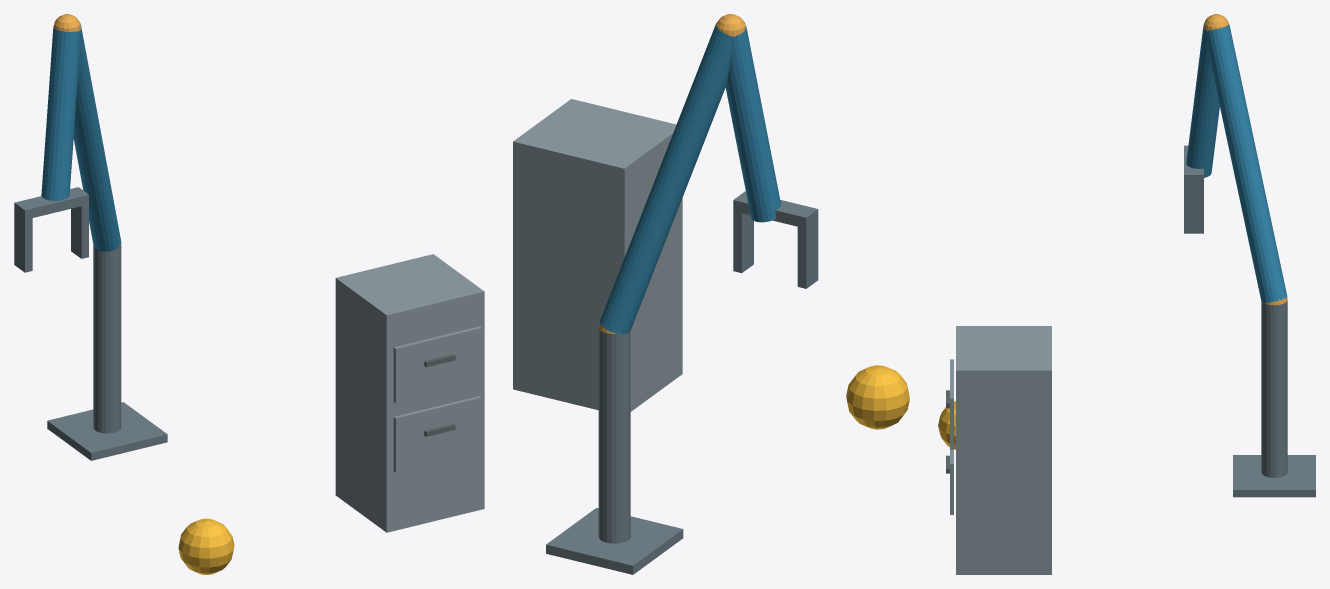
3 renders of one model, left to right at view 1: azimuth 30°, elevation 25°; view 2: azimuth 150°, elevation 25°; view 3: azimuth 270°, elevation 25°, orthographic. The views are drawn at different scales.
Visible parts, largest first — view 1: cabinet_1 body, fixed post, moving link 2, cabinet_1 drawer front, cabinet_1 drawer front.001, moving link 1, pedestal, ball ball_1, gripper bridge, gripper finger -1, gripper finger 1; view 2: cabinet_1 body, moving link 1, fixed post, moving link 2, pedestal, ball ball_1, gripper finger -1, gripper finger 1, gripper bridge, joint 2; view 3: cabinet_1 body, moving link 1, fixed post, pedestal, moving link 2, gripper finger 1.
Part boxes in pixels (bbox=[...]): cabinet_1 body: bbox=[335, 254, 484, 532]; fixed post: bbox=[93, 244, 121, 433]; moving link 2: bbox=[41, 27, 80, 200]; cabinet_1 drawer front: bbox=[393, 396, 481, 472]; cabinet_1 drawer front.001: bbox=[393, 326, 481, 402]; moving link 1: bbox=[73, 24, 121, 251]; pedestal: bbox=[47, 402, 167, 460]; ball ball_1: bbox=[178, 518, 234, 574]; gripper bridge: bbox=[14, 187, 88, 219]; gripper finger -1: bbox=[14, 212, 32, 272]; gripper finger 1: bbox=[71, 204, 88, 258]; cabinet_1 body: bbox=[513, 99, 682, 411]; moving link 1: bbox=[599, 24, 732, 334]; fixed post: bbox=[598, 327, 630, 543]; moving link 2: bbox=[725, 26, 780, 222]; pedestal: bbox=[546, 508, 683, 574]; ball ball_1: bbox=[846, 365, 909, 429]; gripper finger -1: bbox=[797, 220, 818, 288]; gripper finger 1: bbox=[733, 211, 753, 272]; gripper bridge: bbox=[733, 191, 818, 228]; joint 2: bbox=[716, 14, 745, 36]; cabinet_1 body: bbox=[956, 326, 1051, 574]; moving link 1: bbox=[1206, 24, 1287, 302]; fixed post: bbox=[1261, 300, 1287, 477]; pedestal: bbox=[1233, 455, 1315, 497]; moving link 2: bbox=[1186, 26, 1219, 177]; gripper finger 1: bbox=[1184, 184, 1203, 233].
Size of the model in its own units: 1.11 by 1.44 by 1.14.
